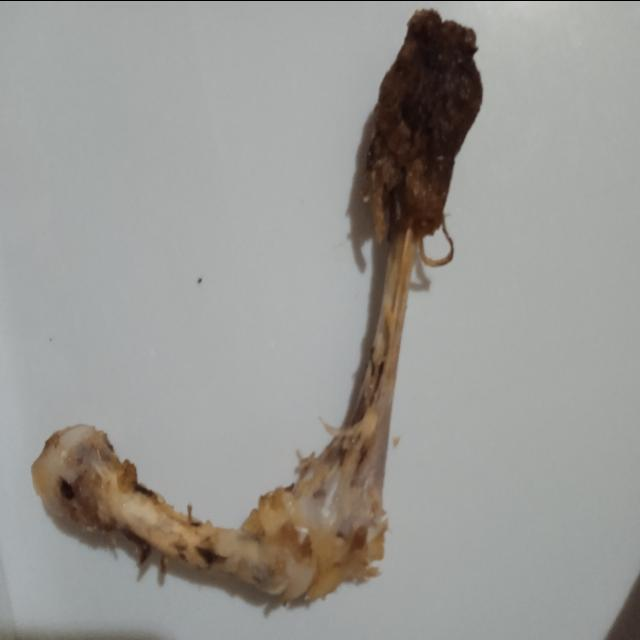bone: (26, 0, 491, 629)
